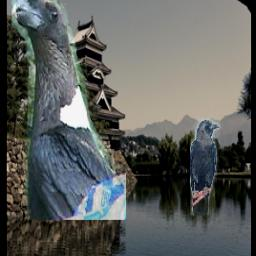Crow: (11, 0, 126, 220), (190, 120, 221, 216)
